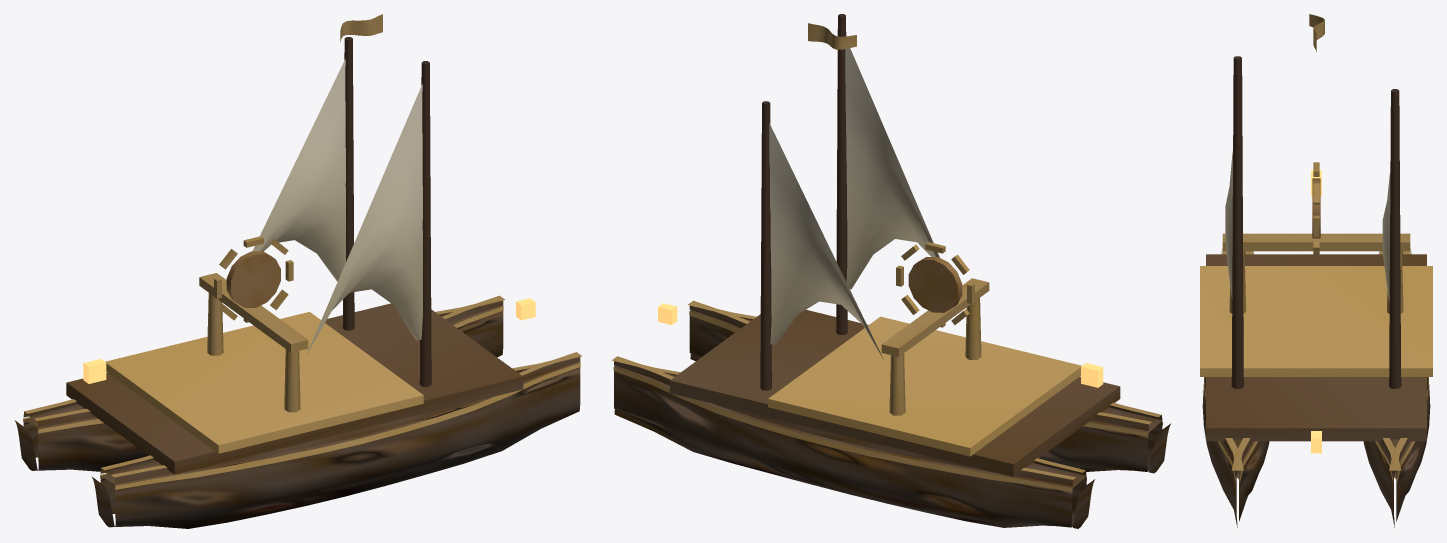
File: garden-hero-sky.glb
3 renders of one model, left to right at view 1: azimuth 30°, elevation 25°; view 2: azimuth 150°, elevation 25°; view 3: azimuth 270°, elevation 25°, orthographic. The views are drawn at different scales.
Visible parts, largest first — view 1: wood-hull, trim-hull, sail-hull, spar-hull, glow-hull; view 2: wood-hull, trim-hull, sail-hull, spar-hull, glow-hull; view 3: wood-hull, trim-hull, spar-hull, sail-hull, glow-hull.
Boxes of the visible parts, left/top/right/bottom form: wood-hull: left=14, top=14, right=581, bottom=528; trim-hull: left=23, top=306, right=580, bottom=489; sail-hull: left=252, top=59, right=422, bottom=355; spar-hull: left=342, top=37, right=431, bottom=386; glow-hull: left=83, top=298, right=535, bottom=383; wood-hull: left=612, top=23, right=1170, bottom=528; trim-hull: left=613, top=311, right=1162, bottom=491; sail-hull: left=769, top=48, right=939, bottom=359; spar-hull: left=760, top=14, right=847, bottom=390; glow-hull: left=658, top=303, right=1103, bottom=387; wood-hull: left=1202, top=14, right=1430, bottom=527; trim-hull: left=1200, top=248, right=1432, bottom=482; spar-hull: left=1231, top=56, right=1401, bottom=388; sail-hull: left=1225, top=151, right=1390, bottom=302; glow-hull: left=1311, top=170, right=1321, bottom=453.
Bounding box in the file's own units: 9.38 × 8.07 × 3.85.
